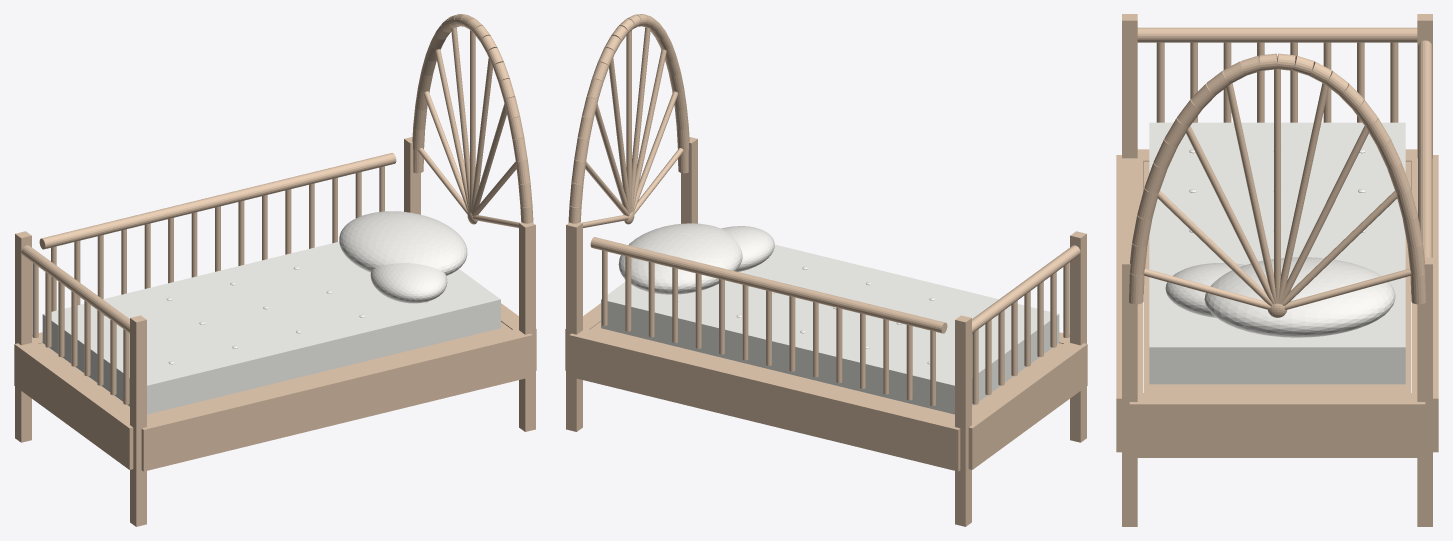
The model's file is tootoo1_oak_junior.glb.
The picture shows the model from 3 angles, left to right: view 1: azimuth 30°, elevation 25°; view 2: azimuth 150°, elevation 25°; view 3: azimuth 270°, elevation 25°; orthographic projection. The views are drawn at different scales.
Parts seen in each view (by area): view 1: Mattress, Front_Apron, Foot_Apron, Pillow_Large, Rear_Guard_Top, Foot_Front_Post, Head_Front_Post, Foot_Back_Post, Pillow_Small, Mattress_Support, Foot_Top_Rail, Head_Back_Post (+6 smaller); view 2: Mattress, Back_Apron, Foot_Apron, Pillow_Large, Rear_Guard_Top, Foot_Back_Post, Head_Back_Post, Foot_Front_Post, Mattress_Support, Foot_Top_Rail, Pillow_Small, Head_Front_Post (+6 smaller); view 3: Mattress, Head_Apron, Pillow_Large, Foot_Top_Rail, Mattress_Support, Front_Apron, Head_Back_Post, Head_Front_Post, Rear_Guard_Top, Back_Apron, Foot_Front_Post, Pillow_Small (+32 smaller).
Boxes of the visible parts, bbox=[...] form: Mattress: bbox=[42, 241, 500, 414]; Front_Apron: bbox=[141, 328, 532, 471]; Foot_Apron: bbox=[14, 343, 133, 469]; Pillow_Large: bbox=[339, 211, 467, 275]; Rear_Guard_Top: bbox=[39, 153, 396, 249]; Foot_Front_Post: bbox=[130, 315, 146, 526]; Head_Front_Post: bbox=[519, 222, 535, 431]; Foot_Back_Post: bbox=[15, 231, 31, 442]; Pillow_Small: bbox=[370, 263, 447, 303]; Mattress_Support: bbox=[39, 322, 511, 418]; Foot_Top_Rail: bbox=[21, 245, 129, 333]; Head_Back_Post: bbox=[404, 137, 420, 214]; Mattress: bbox=[601, 244, 1059, 414]; Back_Apron: bbox=[569, 328, 960, 471]; Foot_Apron: bbox=[968, 340, 1087, 469]; Pillow_Large: bbox=[618, 223, 742, 294]; Rear_Guard_Top: bbox=[590, 237, 947, 333]; Foot_Back_Post: bbox=[955, 315, 971, 526]; Head_Back_Post: bbox=[566, 222, 582, 431]; Foot_Front_Post: bbox=[1070, 231, 1086, 442]; Mattress_Support: bbox=[590, 322, 1062, 418]; Foot_Top_Rail: bbox=[972, 245, 1080, 333]; Pillow_Small: bbox=[721, 226, 774, 271]; Head_Front_Post: bbox=[681, 137, 697, 223]; Mattress: bbox=[1149, 122, 1405, 384]; Head_Apron: bbox=[1129, 393, 1425, 457]; Pillow_Large: bbox=[1204, 257, 1395, 337]; Foot_Top_Rail: bbox=[1137, 27, 1417, 42]; Mattress_Support: bbox=[1144, 161, 1410, 392]; Front_Apron: bbox=[1116, 155, 1143, 452]; Head_Back_Post: bbox=[1417, 257, 1432, 526]; Head_Front_Post: bbox=[1122, 257, 1137, 526]; Rear_Guard_Top: bbox=[1418, 40, 1432, 257]; Back_Apron: bbox=[1411, 155, 1438, 452]; Foot_Front_Post: bbox=[1122, 14, 1137, 158]; Pillow_Small: bbox=[1165, 263, 1244, 317].
Size of the model in its own units: 2.14 by 1.85 by 1.14.
